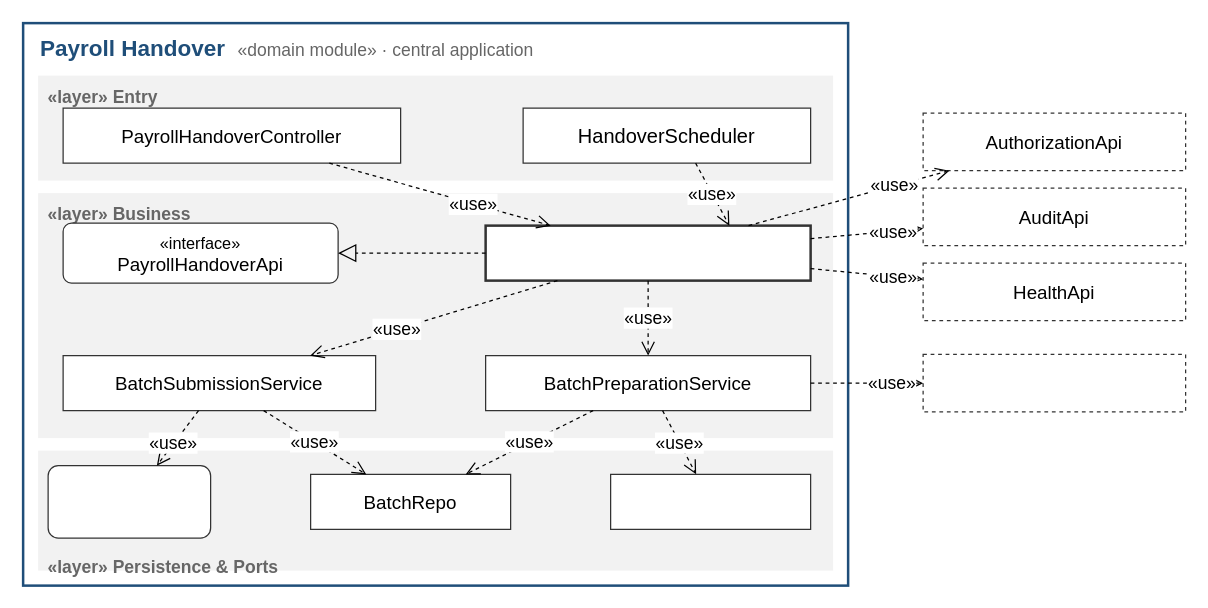
Image size: 1208x608. Some labels were removed from this diagram. Each missing label, with the centre of its shape:
"AttendanceApi" belongs at (1054,382).
"PayrollHandoverFacade" belongs at (647,252).
"PeriodRepo" belongs at (710,501).
"«port» IPayroll Submission" belongs at (129,501).
